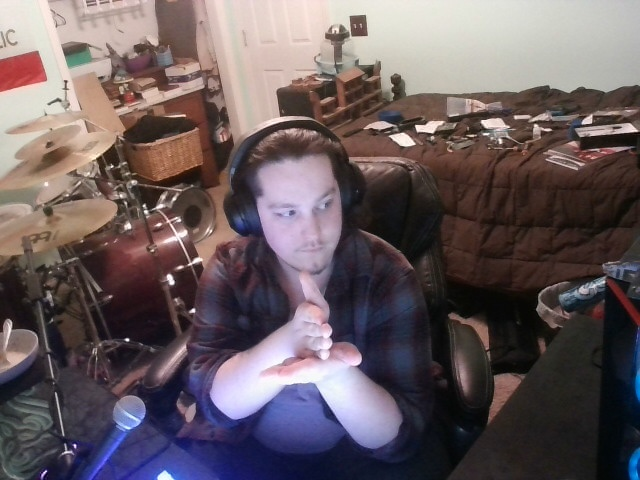stop: (234, 262, 382, 395)
